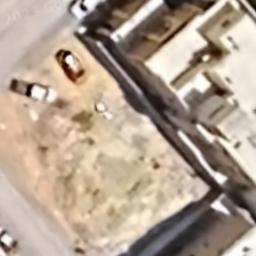pickup: (9, 76, 60, 105)
unknown: (58, 48, 88, 83), (0, 224, 19, 254)
